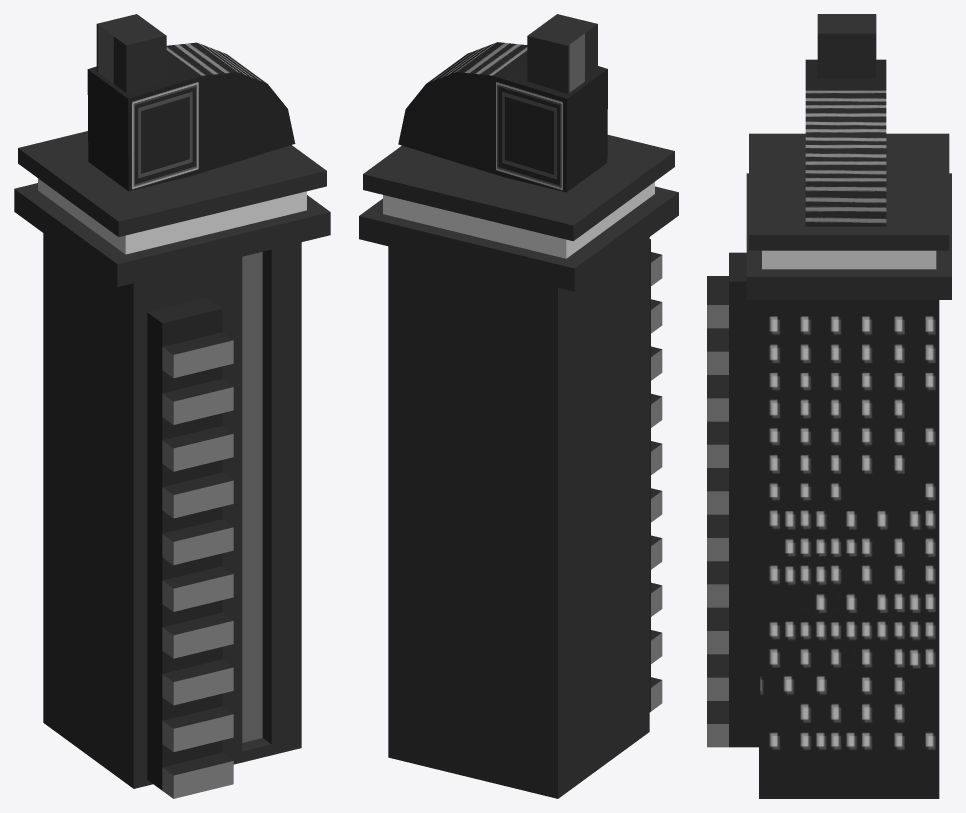
Rendered from Stage3.fbx.
3 views of the same model, side by side, from view 1: azimuth 30°, elevation 25°; view 2: azimuth 150°, elevation 25°; view 3: azimuth 270°, elevation 25° (orthographic).
Parts seen in each view (by area): view 1: pCube1, pCube2, pCube3, pCube4, pCube5; view 2: pCube1, pCube3, pCube4, pCube5, pCube2; view 3: pCube1, pCube3, pCube2, pCube4, pCube5.
Boxes of the visible parts, x1,y1,x2,y2 form: pCube1: [43, 233, 301, 788]; pCube2: [147, 298, 233, 798]; pCube3: [14, 131, 330, 286]; pCube4: [87, 42, 295, 191]; pCube5: [96, 14, 166, 92]; pCube1: [388, 237, 649, 798]; pCube3: [359, 135, 678, 291]; pCube4: [398, 42, 607, 192]; pCube5: [527, 14, 597, 93]; pCube2: [649, 239, 662, 712]; pCube1: [759, 300, 939, 798]; pCube3: [746, 133, 951, 299]; pCube2: [707, 252, 758, 747]; pCube4: [805, 59, 886, 226]; pCube5: [817, 14, 876, 78].
Size of the model in its own units: 362 by 1161 by 361.
4 materials, 4 textured.
